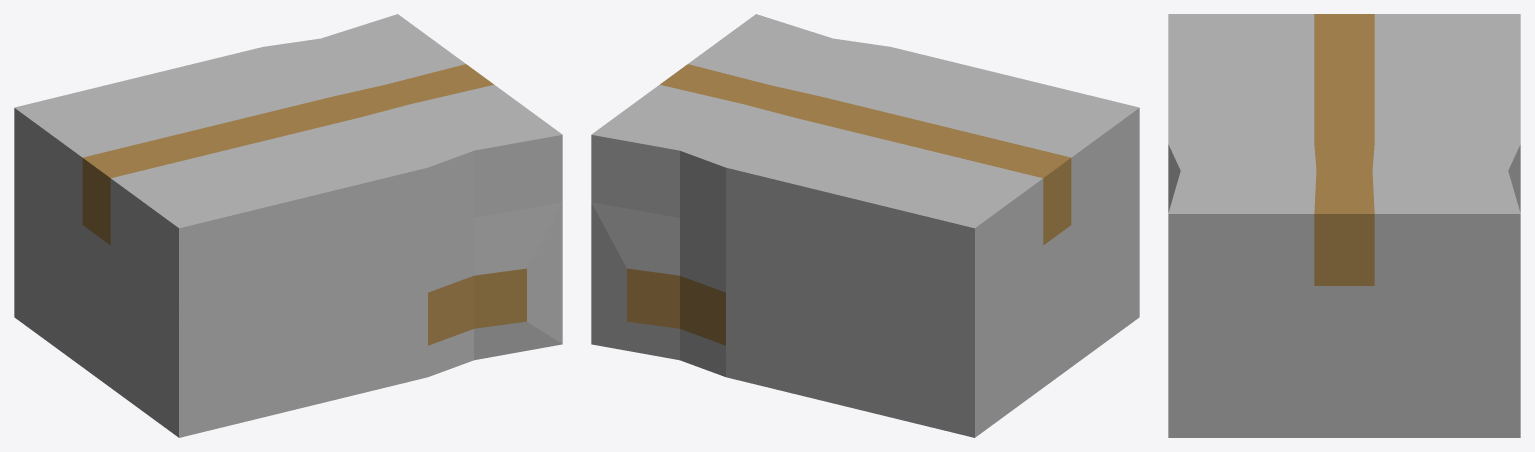
The picture shows the model from 3 angles, left to right: view 1: azimuth 30°, elevation 25°; view 2: azimuth 150°, elevation 25°; view 3: azimuth 270°, elevation 25°; orthographic projection. The views are drawn at different scales.
Parts seen in each view (by area): view 1: CardboardBoxes_1; view 2: CardboardBoxes_1; view 3: CardboardBoxes_1.
Part boxes in pixels (x1=…): CardboardBoxes_1: x1=14, y1=14, x2=562, y2=437; CardboardBoxes_1: x1=591, y1=14, x2=1139, y2=437; CardboardBoxes_1: x1=1168, y1=14, x2=1520, y2=437.
Bounding box in the file's own units: 1.34 × 0.7011 × 1.
